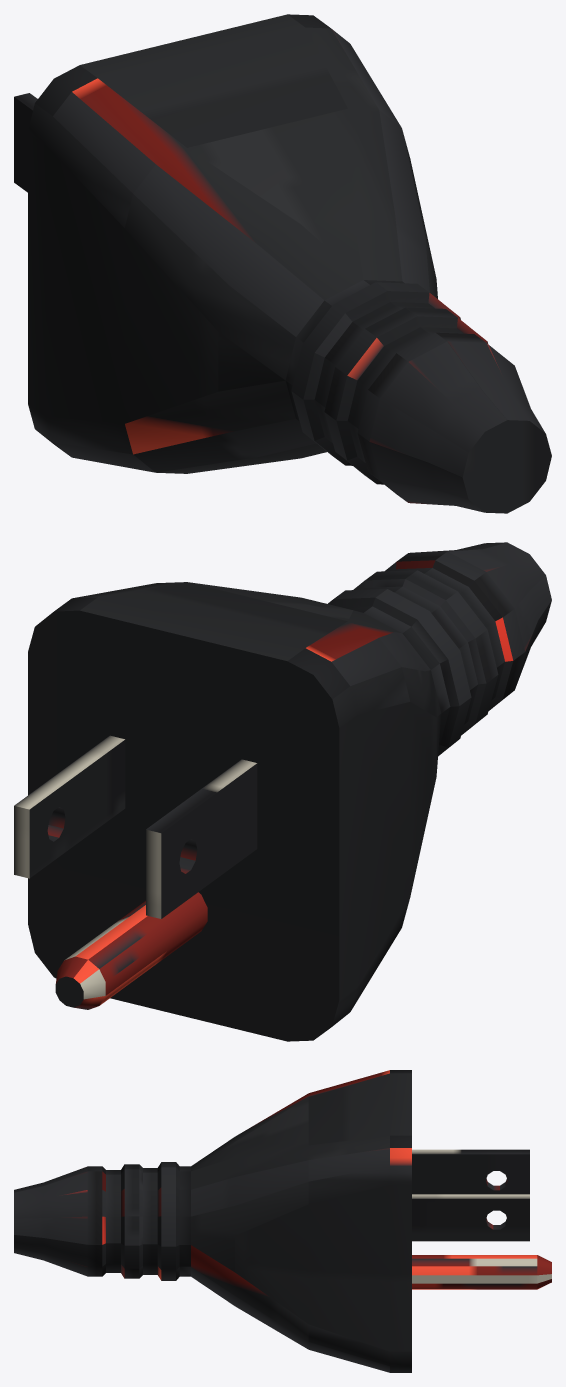
The model's file is power_plug.obj.
The picture shows the model from 3 angles, top to bottom: view 1: azimuth 30°, elevation 25°; view 2: azimuth 150°, elevation 25°; view 3: azimuth 270°, elevation 25°; orthographic projection. The views are drawn at different scales.
Parts seen in each view (by area): view 1: plug_body, plug_blade_n; view 2: plug_body, plug_blade_n, plug_blade_h, plug_pin, plug_pin_tip; view 3: plug_body, plug_blade_h, plug_blade_n, plug_pin, plug_pin_tip.
Part boxes in pixels (box(x1,y1,x2,y2)): plug_body: box(28, 14, 551, 513); plug_blade_n: box(14, 93, 37, 192); plug_body: box(28, 542, 551, 1041); plug_blade_n: box(146, 759, 257, 918); plug_blade_h: box(14, 735, 125, 878); plug_pin: box(64, 892, 207, 1005); plug_pin_tip: box(55, 956, 105, 1009); plug_body: box(14, 1070, 411, 1372); plug_blade_h: box(412, 1194, 529, 1241); plug_blade_n: box(412, 1149, 529, 1194); plug_pin: box(412, 1255, 537, 1289); plug_pin_tip: box(537, 1255, 551, 1289).
Size of the model in its own units: 0.045 by 0.0525 by 0.1095.
